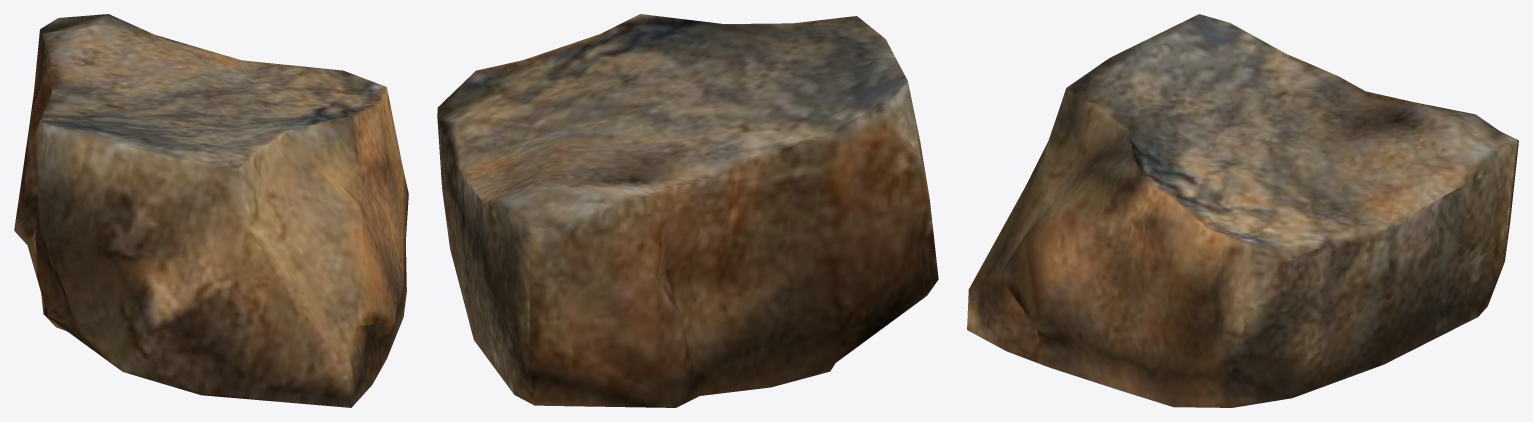
The model's file is rock-block-lod1.glb.
3 renders of one model, left to right at view 1: azimuth 30°, elevation 25°; view 2: azimuth 150°, elevation 25°; view 3: azimuth 270°, elevation 25°, orthographic. The views are drawn at different scales.
Visible parts, largest first — view 1: boulder_03_LOD0; view 2: boulder_03_LOD0; view 3: boulder_03_LOD0.
Part boxes in pixels (<box>): boulder_03_LOD0: <box>14,14,408,407</box>; boulder_03_LOD0: <box>437,14,938,407</box>; boulder_03_LOD0: <box>967,14,1518,407</box>.
Bounding box in the file's own units: 2.39 × 1.46 × 3.02.
Materials: 1 (1 with a texture image).
